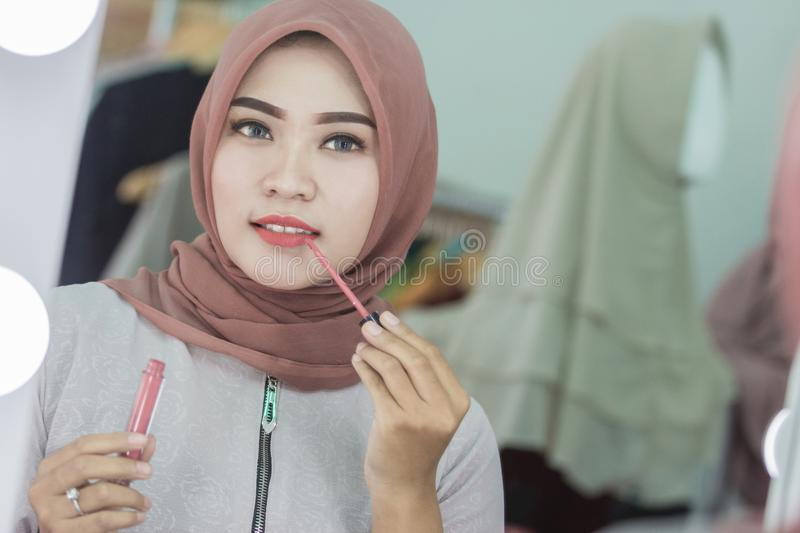No Mask: (199, 37, 398, 319)
